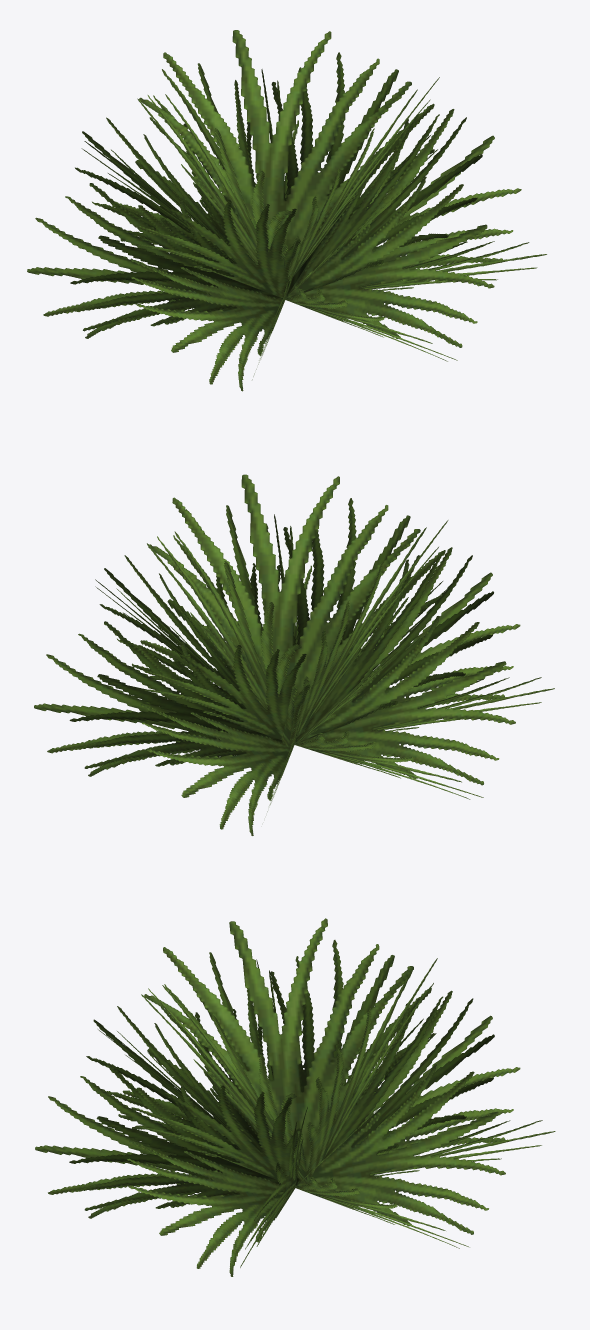
Rendered from grass.FBX.
The picture shows the model from 3 angles, top to bottom: view 1: azimuth 30°, elevation 25°; view 2: azimuth 150°, elevation 25°; view 3: azimuth 270°, elevation 25°; orthographic projection.
Visible parts, largest first — view 1: DUMMY; view 2: DUMMY; view 3: DUMMY.
Part boxes in pixels (<box>): DUMMY: <box>27,30,546,391</box>; DUMMY: <box>34,474,554,835</box>; DUMMY: <box>35,918,555,1276</box>.
Bounding box in the file's own units: 2.02 × 0.89 × 1.93.
1 material, 1 textured.
